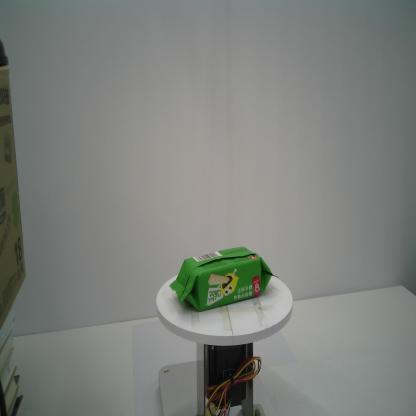Dessert: (169, 245, 279, 312)
